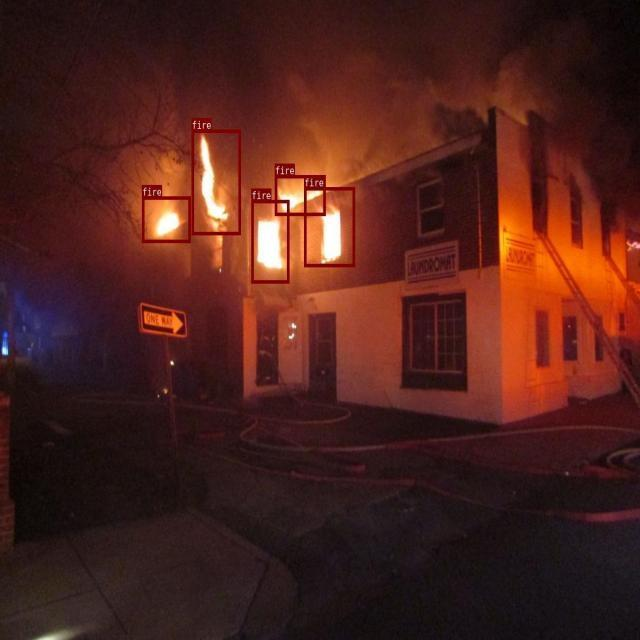fire: (192, 129, 241, 234), (304, 187, 355, 266), (251, 199, 289, 283), (142, 196, 190, 242), (274, 175, 325, 215)
